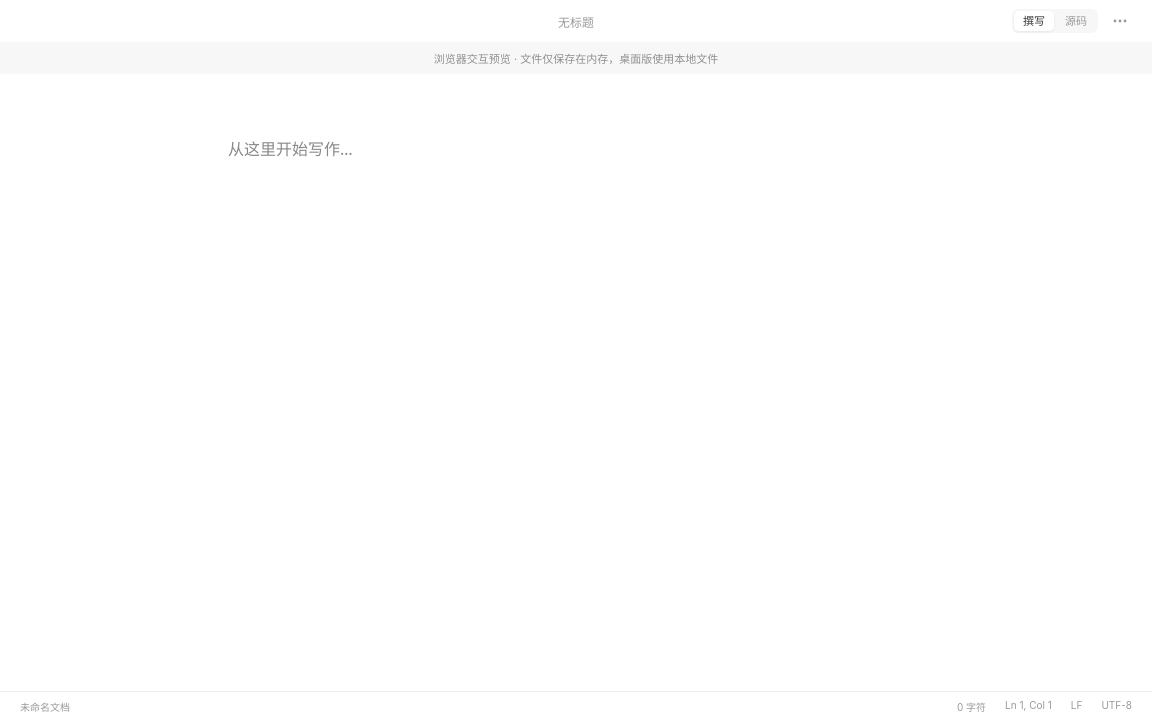
Test: opens focused editing surface without a sidebar
Expected: the field named "文档编辑器" is shown, [228,138,353,160]
Click the button named "文档操作": (1120, 21) [1106,7,1134,35]
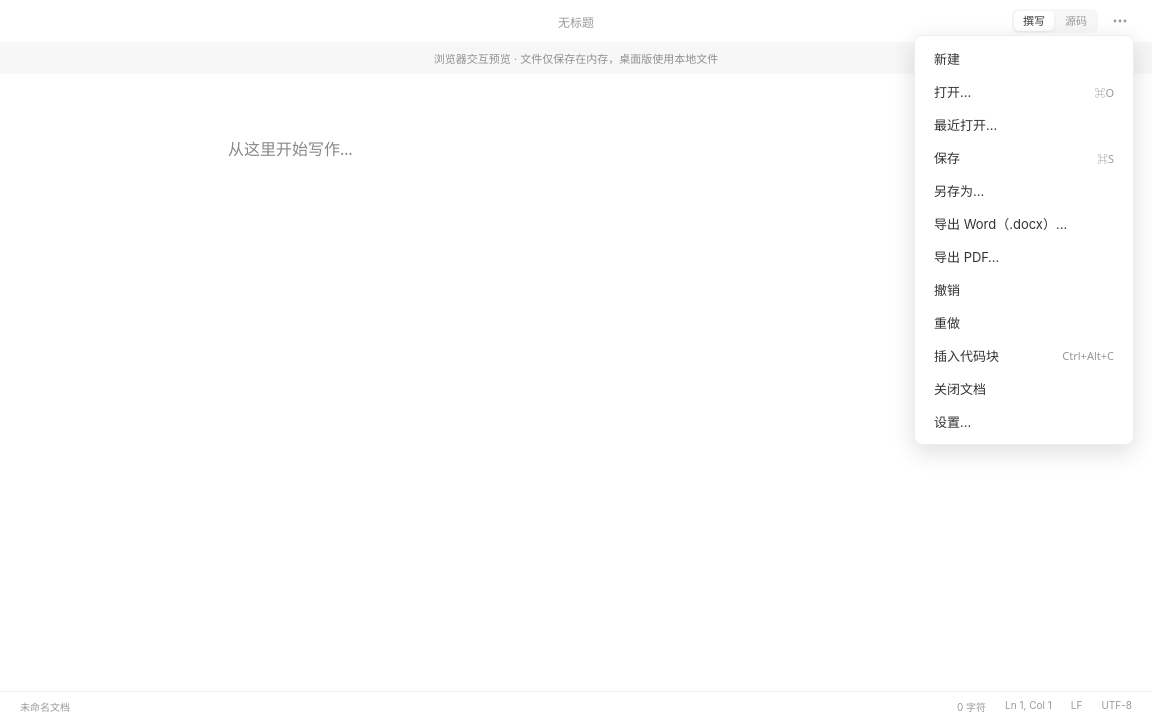
Expected: the button "另存为…" is shown, [921,174,1127,207]
